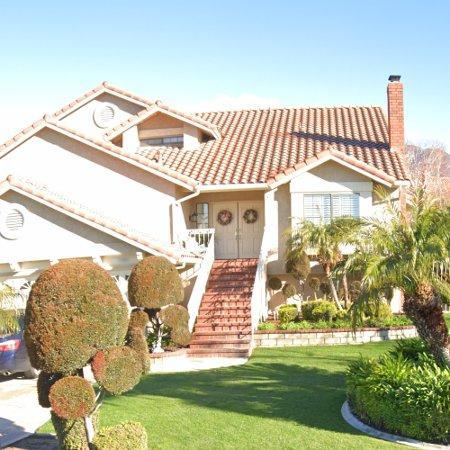stairs: (188, 261, 258, 358)
